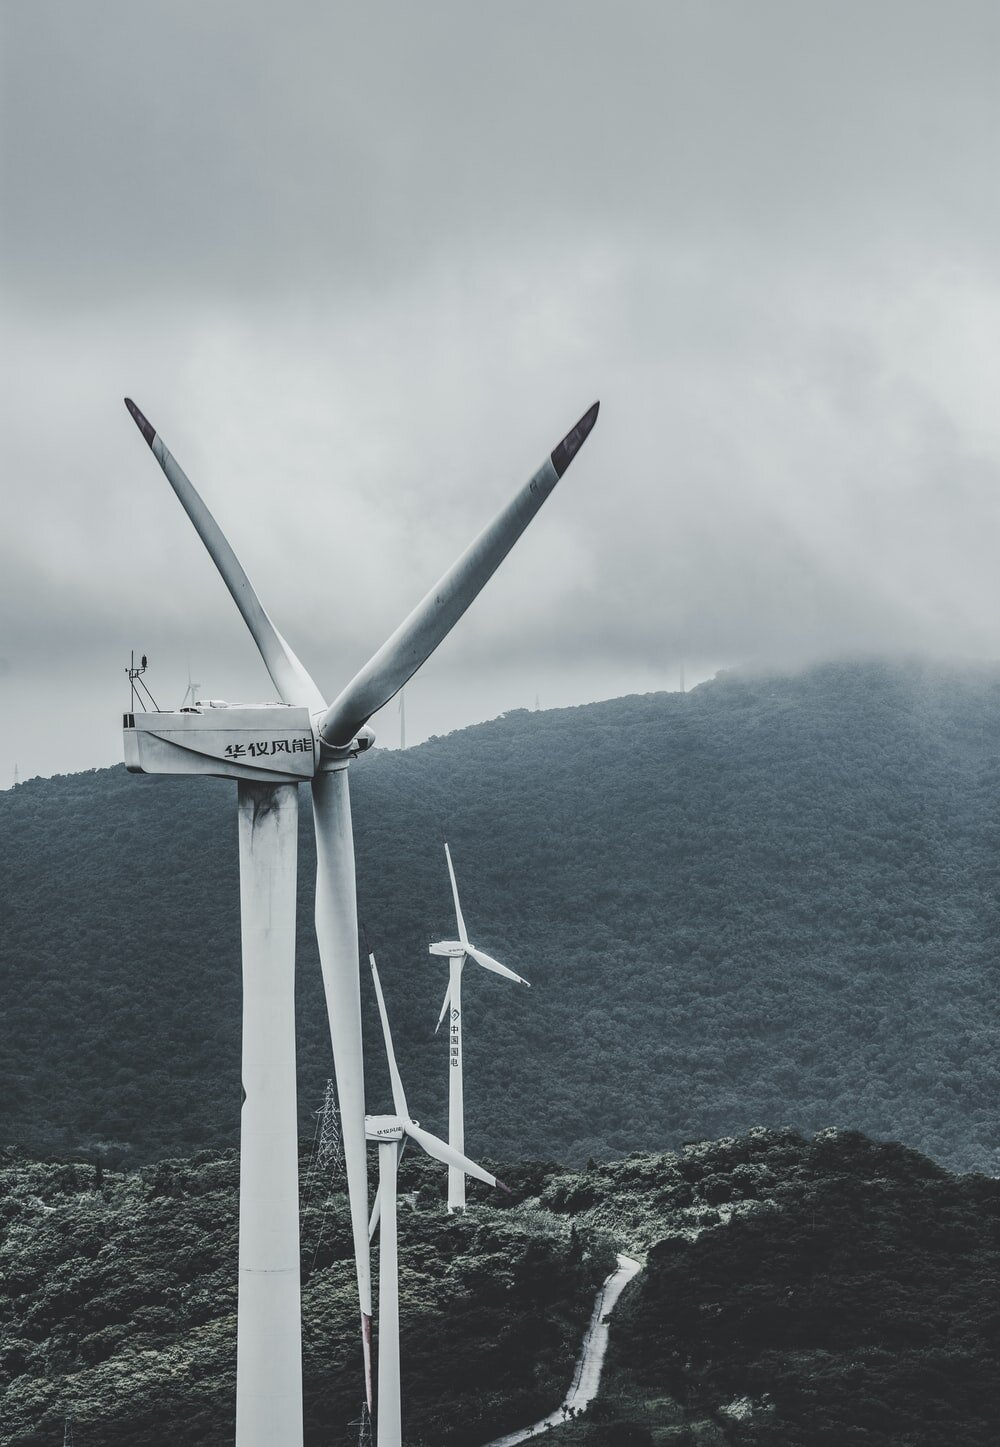working: (94, 377, 606, 935)
